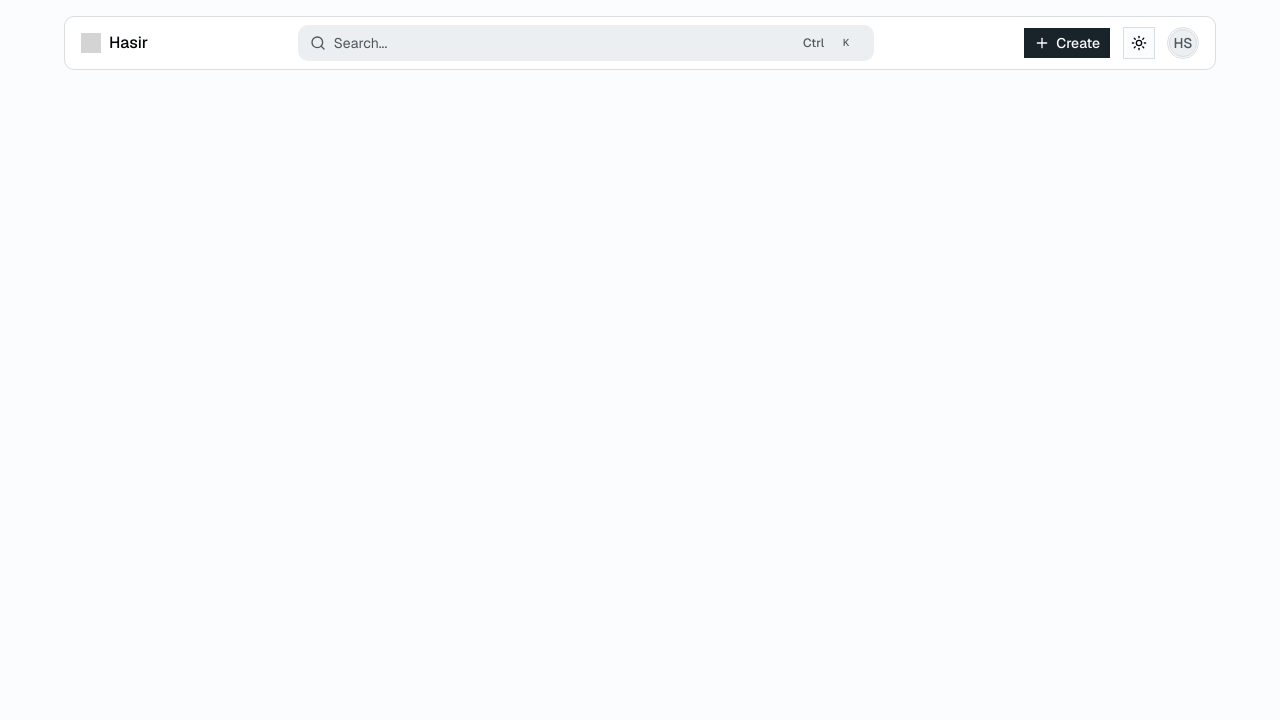
Header › renders profile button with user menu
What coordinates should you click on to do the following:
click the button with aria-label "open user menu"
I would click on:
 (1183, 43)
Its box is [1167,27,1199,59].
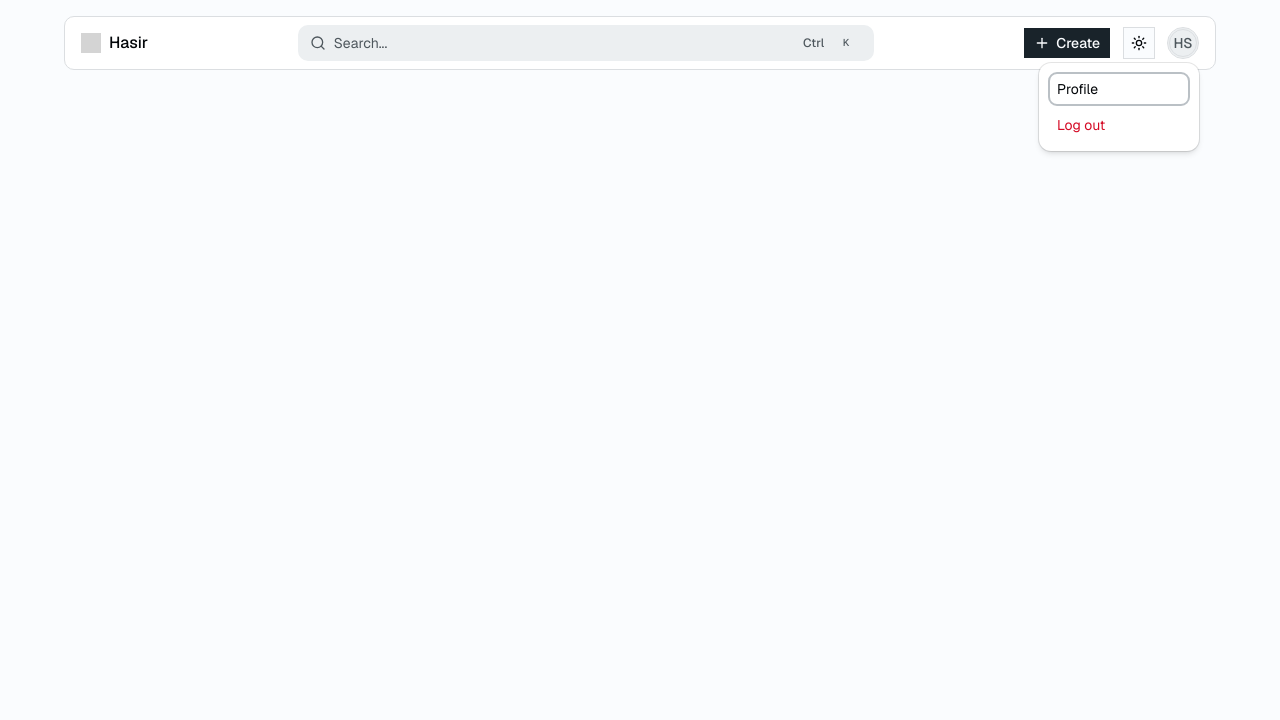
Result: the button "Profile" is shown at [1049,73,1189,105]
